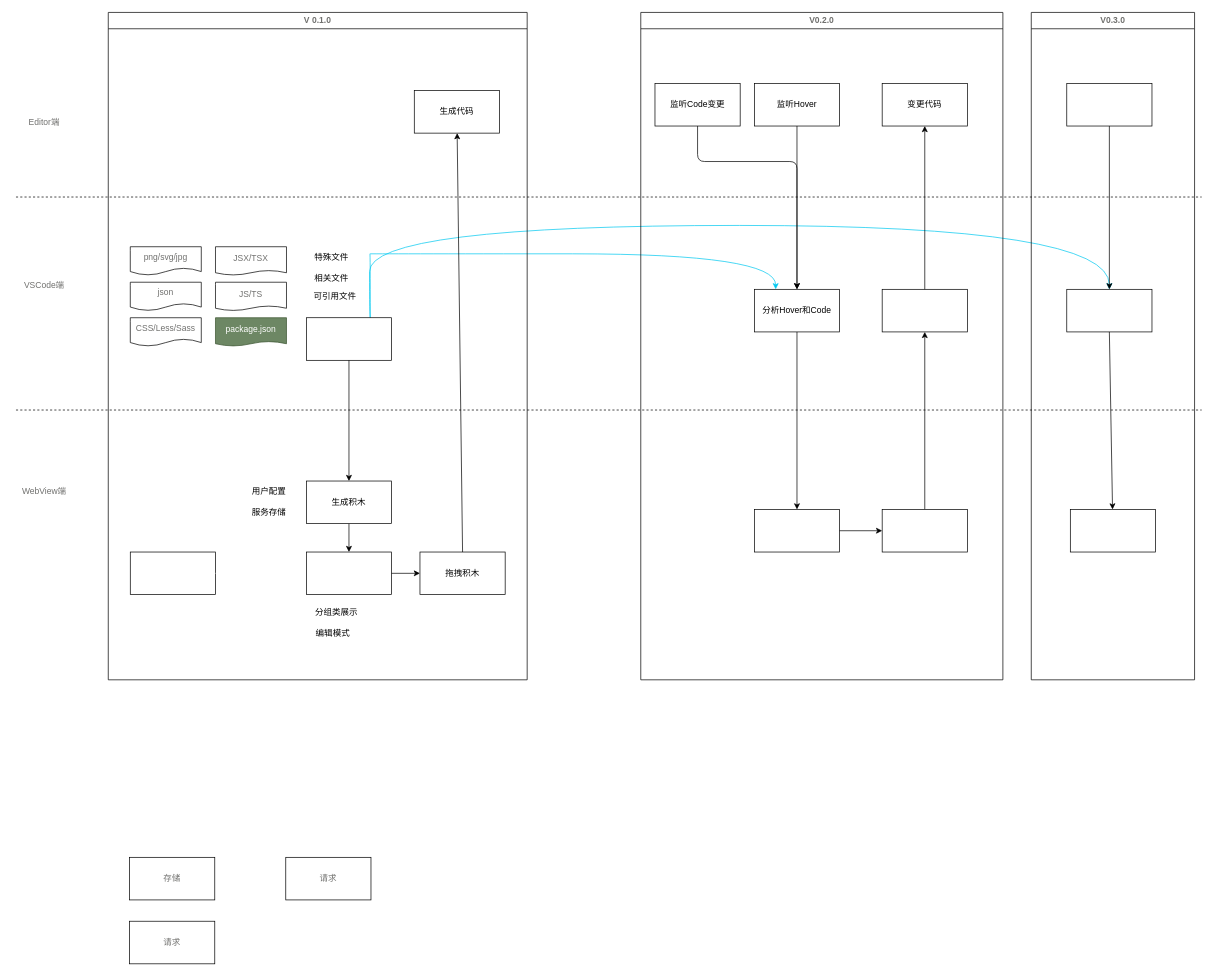
The diagram is 1215 pixels wide and 976 high, and some of its shapes have lost their labels. Here are the shapes that lost their labels. From the top down, the box of each, then its label:
(1066, 83, 1152, 126): ActiveText变更
(881, 289, 967, 332): 分析Hover
(1066, 289, 1152, 332): 血缘关系分析
(306, 317, 392, 360): 遍历文件
(754, 509, 840, 552): 展示组件
(881, 509, 967, 552): 编辑组件
(1070, 509, 1156, 552): 展示影响范围
(130, 551, 215, 595): 编辑积木
(306, 551, 392, 595): 渲染积木列表
